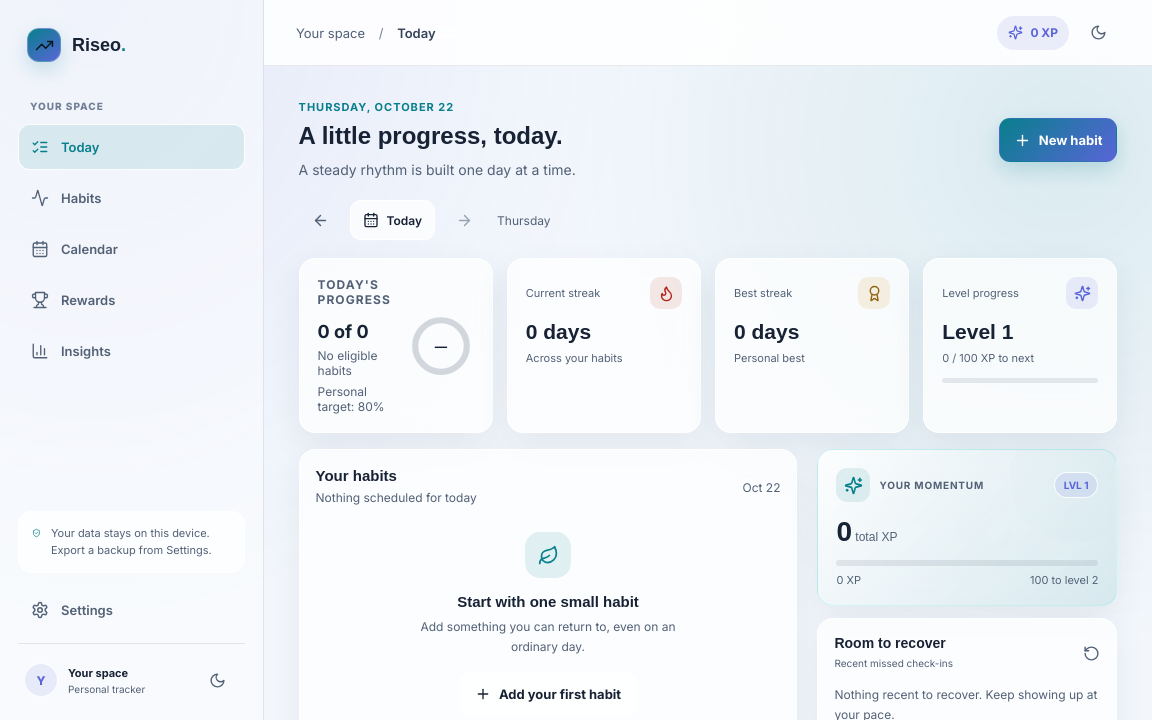
Scenario: habit tracker workflow › moves focus into a dialog and restores it when Escape closes the dialog
Click the button "Add your first habit": (548,694) [460,672,636,716]
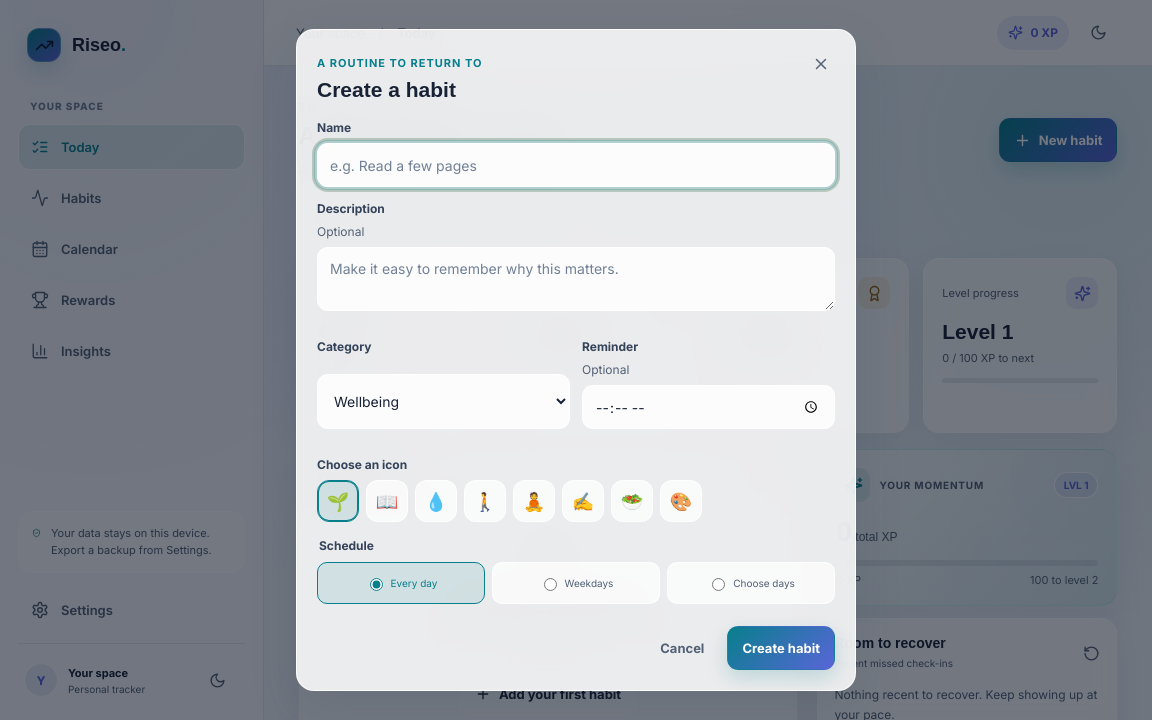
Press Escape
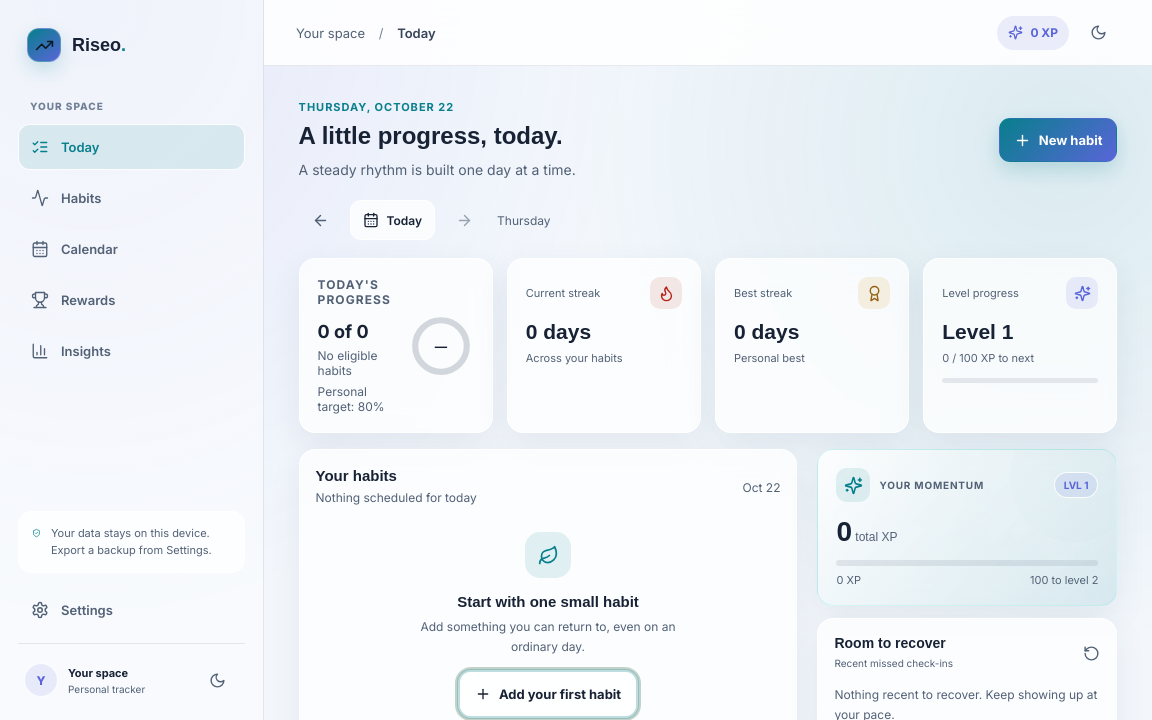
Expected: the dialog is gone
